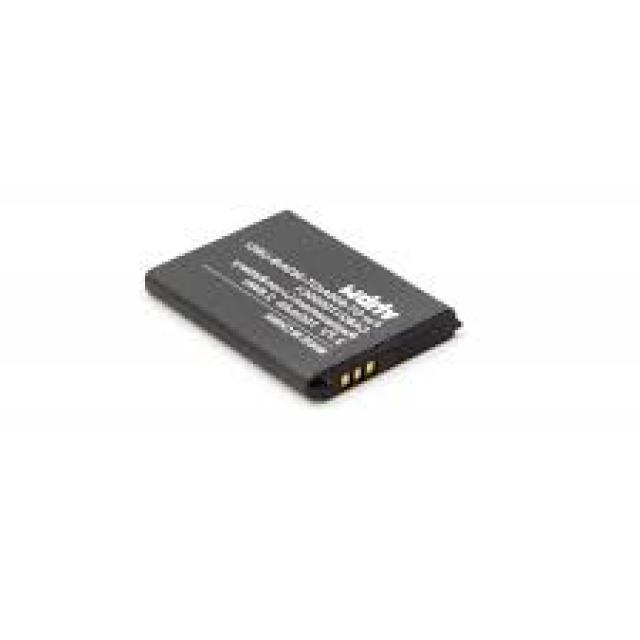battery: (144, 211, 462, 402)
